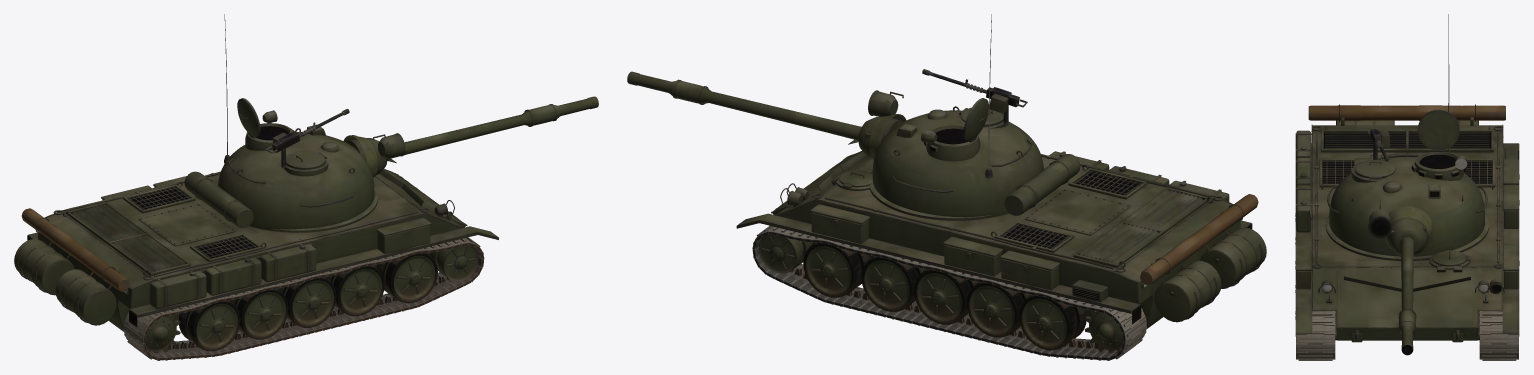
File: tank.glb
3 renders of one model, left to right at view 1: azimuth 30°, elevation 25°; view 2: azimuth 150°, elevation 25°; view 3: azimuth 270°, elevation 25°, orthographic. The views are drawn at different scales.
Parts seen in each view (by area): view 1: Hull, Turret, TrackR, Barrel, WheelR5, WheelR1, WheelR2, WheelR3, WheelR4, IdlerR, Gun, SprocketR (+2 smaller); view 2: Hull, Turret, TrackL, Barrel, WheelL5, WheelL1, WheelL4, WheelL3, WheelL2, IdlerL, Gun, SprocketL (+2 smaller); view 3: Hull, Turret, Gun, TrackL, TrackR, Barrel, CommanderHatch, LoaderHatch, DriverHatch.
Part boxes in pixels (x1=…): Hull: x1=14, y1=159, x2=498, y2=331; Turret: x1=184, y1=14, x2=377, y2=230; TrackR: x1=123, y1=237, x2=484, y2=360; Barrel: x1=391, y1=96, x2=598, y2=158; WheelR5: x1=179, y1=300, x2=240, y2=351; WheelR1: x1=376, y1=253, x2=437, y2=303; WheelR2: x1=325, y1=265, x2=384, y2=316; WheelR3: x1=277, y1=277, x2=336, y2=327; WheelR4: x1=229, y1=289, x2=288, y2=339; IdlerR: x1=430, y1=245, x2=478, y2=281; Gun: x1=346, y1=133, x2=405, y2=175; SprocketR: x1=145, y1=314, x2=180, y2=353; Hull: x1=736, y1=139, x2=1266, y2=328; Turret: x1=869, y1=14, x2=1080, y2=217; TrackL: x1=752, y1=226, x2=1146, y2=360; Barrel: x1=627, y1=71, x2=861, y2=140; WheelL5: x1=1019, y1=295, x2=1086, y2=350; WheelL1: x1=803, y1=243, x2=870, y2=297; WheelL4: x1=966, y1=282, x2=1031, y2=337; WheelL3: x1=914, y1=269, x2=978, y2=324; WheelL2: x1=861, y1=256, x2=926, y2=311; IdlerL: x1=758, y1=234, x2=811, y2=273; Gun: x1=858, y1=90, x2=903, y2=158; SprocketL: x1=1084, y1=310, x2=1123, y2=352; Hull: x1=1295, y1=104, x2=1519, y2=342; Turret: x1=1327, y1=14, x2=1487, y2=256; Gun: x1=1368, y1=200, x2=1428, y2=255; TrackL: x1=1479, y1=310, x2=1518, y2=360; TrackR: x1=1296, y1=311, x2=1335, y2=360; Barrel: x1=1398, y1=237, x2=1416, y2=355; CommanderHatch: x1=1417, y1=109, x2=1459, y2=151; LoaderHatch: x1=1355, y1=160, x2=1395, y2=179; DriverHatch: x1=1432, y1=250, x2=1470, y2=266.
Size of the model in its own units: 9.49 by 4.57 by 3.29.
2 materials, 2 textured.
